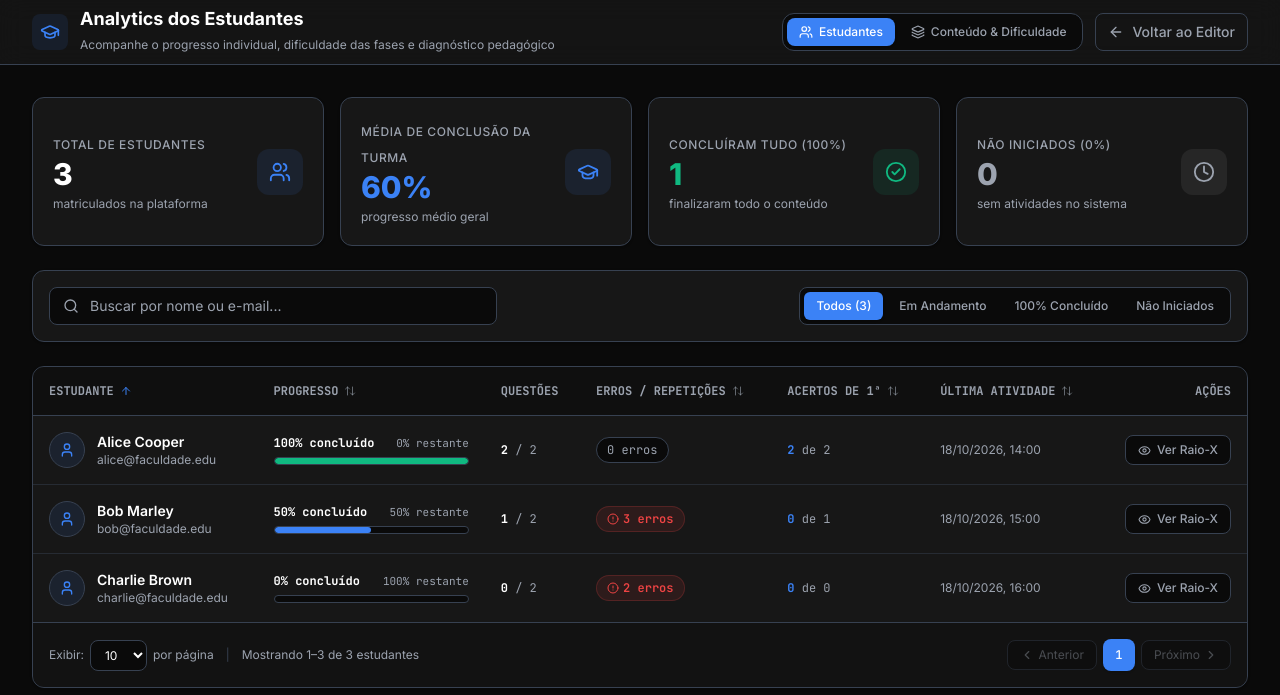
Test: ContentAnalytics Integration Tests (SPEC-009 - TDD Fase Vermelha) › deve permitir filtrar a tabela de questões ao clicar em um card de fase no Panorama de Fases
Click the button "Conteúdo & Dificuldade".
click(989, 32)  # box [899, 18, 1078, 46]
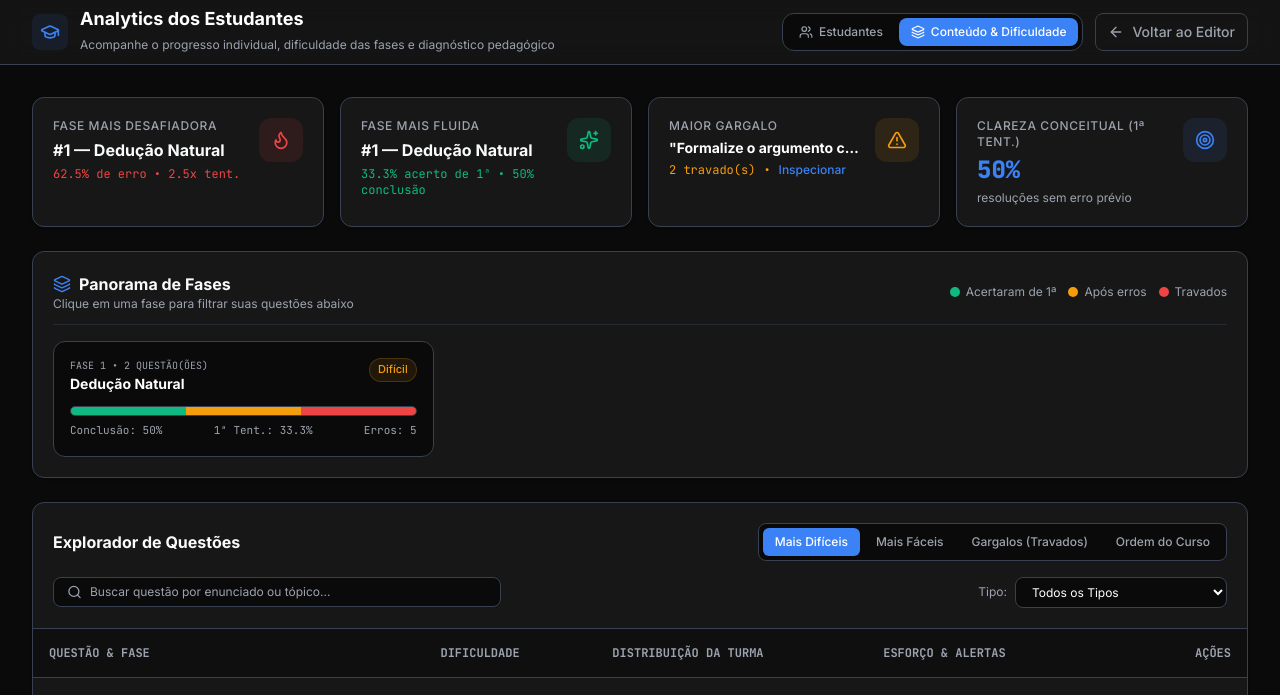
// Clicar no card da fase "Dedução Natural"
Click the button "Dedução Natural".
click(169, 366)  # box [53, 341, 434, 457]
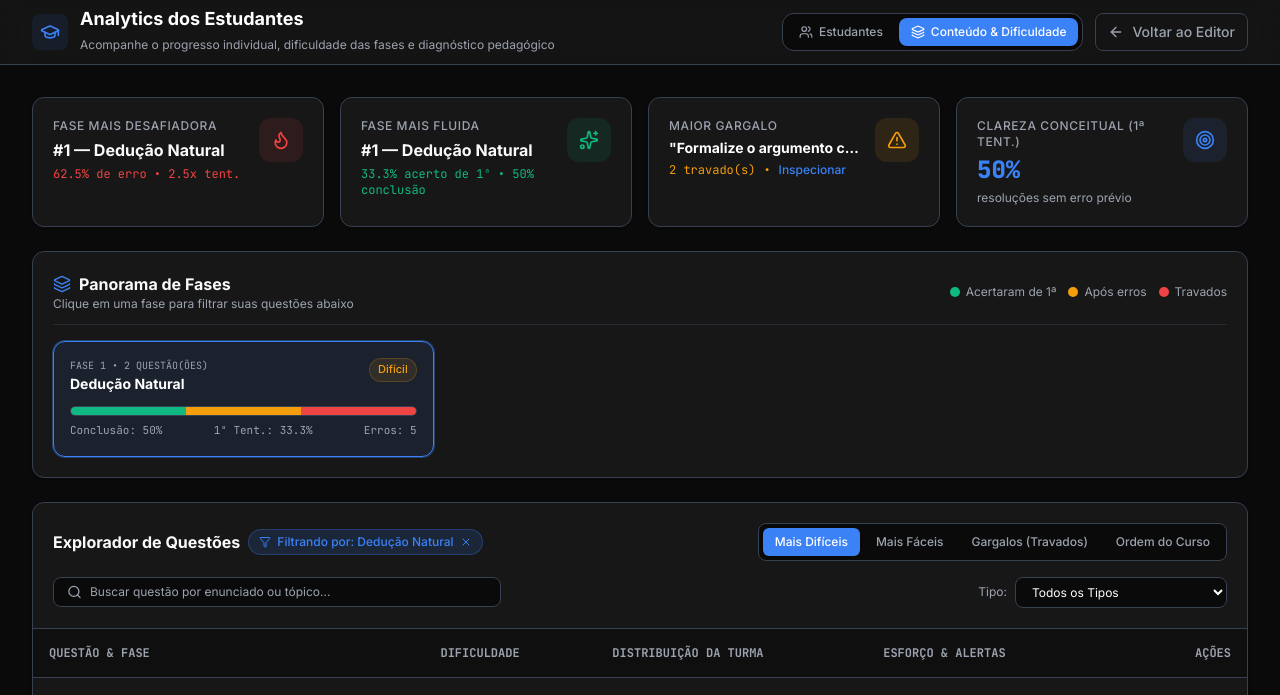
expect the text "Filtrando por: Dedução Natural" is shown: met, box [277, 534, 454, 550]
